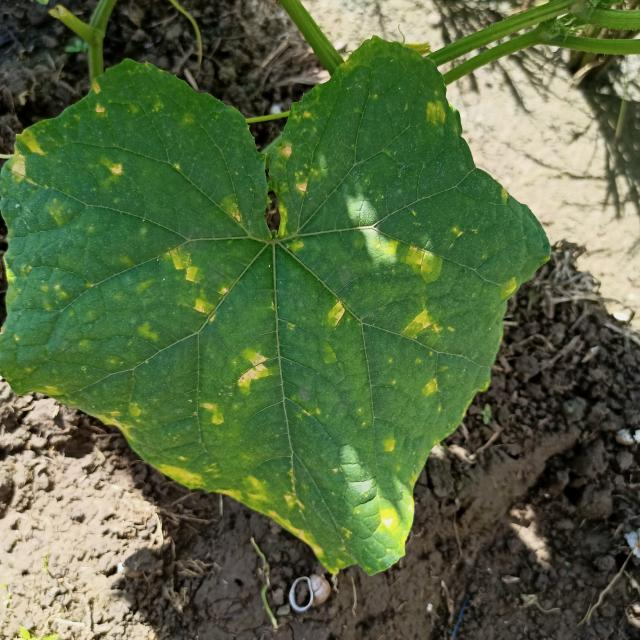disease_cucumber: (0, 59, 500, 569)
